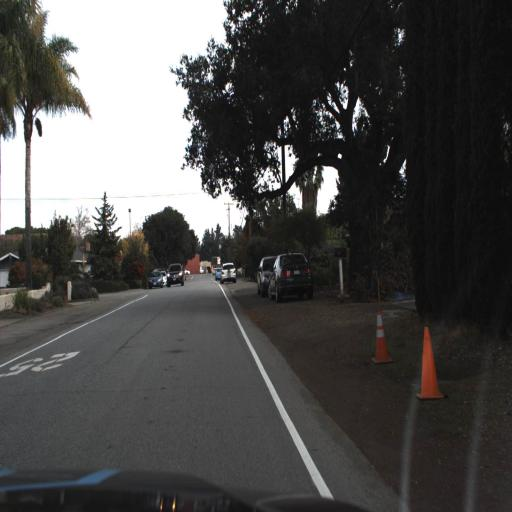car: (266, 250, 313, 302), (166, 262, 185, 288), (220, 259, 238, 284), (146, 270, 163, 293)
